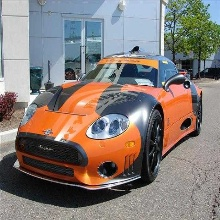no damage: (15, 54, 203, 190)
